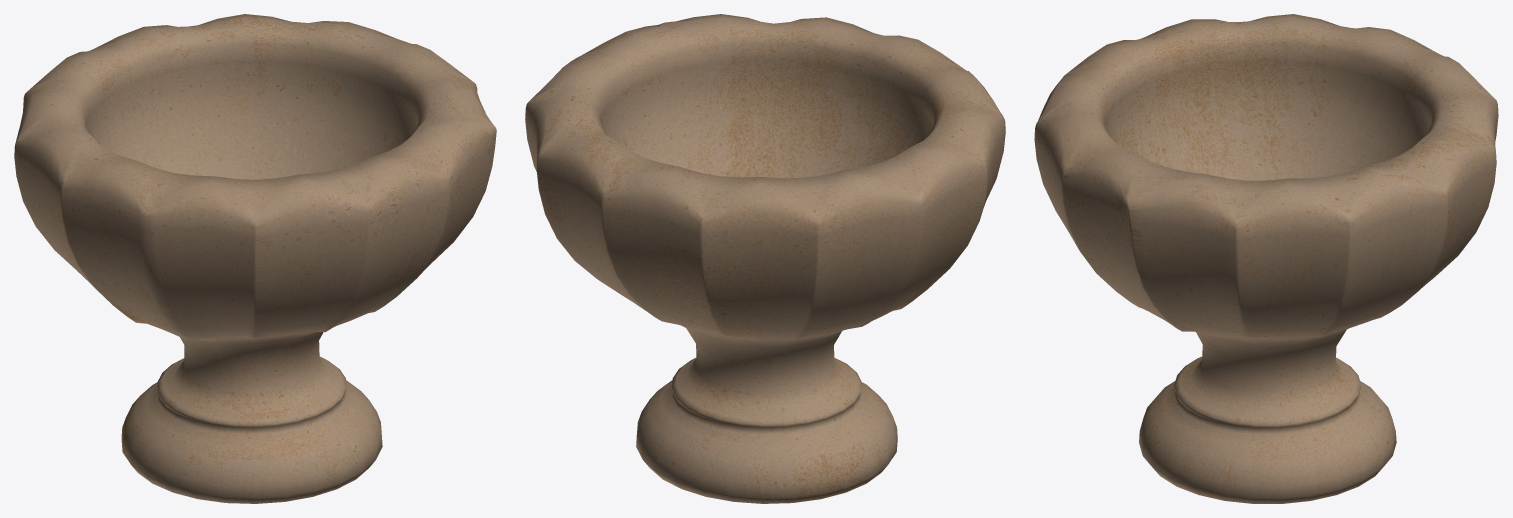
Rendered from Iglesia-Pila.fbx.
3 views of the same model, side by side, from view 1: azimuth 30°, elevation 25°; view 2: azimuth 150°, elevation 25°; view 3: azimuth 270°, elevation 25° (orthographic).
Visible parts, largest first — view 1: Pila; view 2: Pila; view 3: Pila.
Boxes of the visible parts, box(x1,y1,x2,y2) form: Pila: box(14, 14, 496, 503); Pila: box(525, 14, 1005, 503); Pila: box(1034, 14, 1498, 503).
Size of the model in its own units: 1.48 by 1.21 by 1.43.
